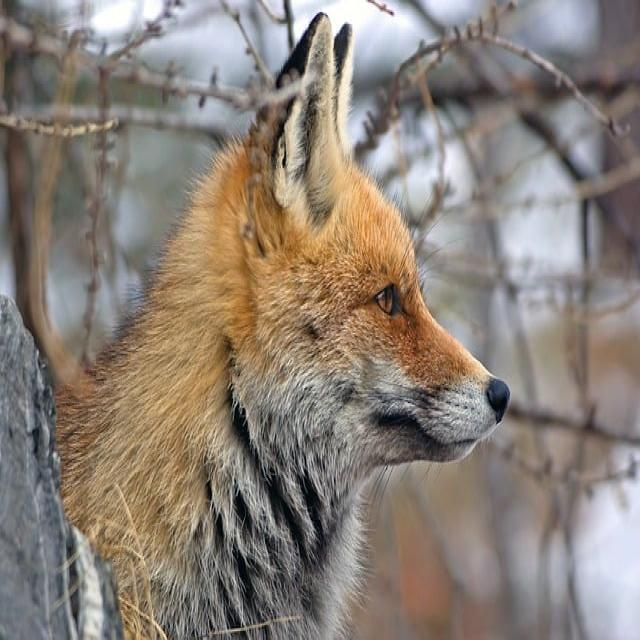Carnivorous: (55, 13, 512, 640)
